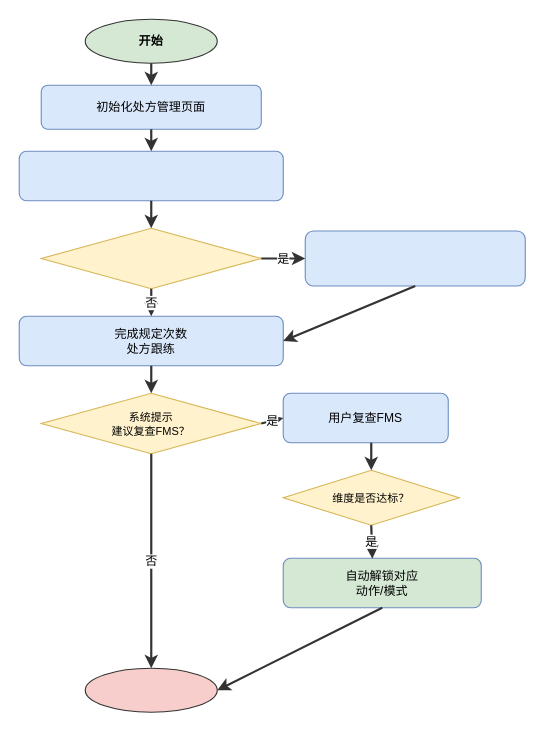
The diagram is 545 pixels wide and 732 high, and some of its shapes have lost their labels. The centre of each missing label's shape, as x and y in pixels:
"是否需要 查看锁定动作？" goes at pixel 150 258.
"查看锁定动作列表 及解锁条件" goes at pixel 414 258.
"用户切换当前生效方案 3套方案之一" goes at pixel 150 175.
"结束" goes at pixel 150 689.
